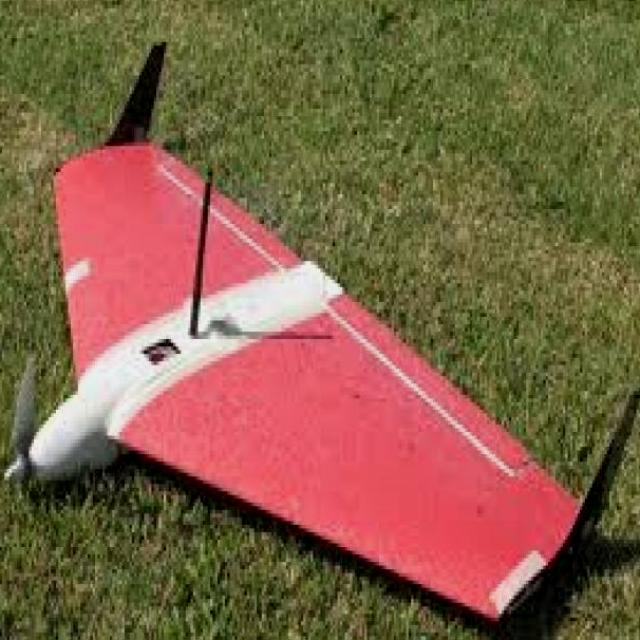plane: (3, 39, 640, 628)
